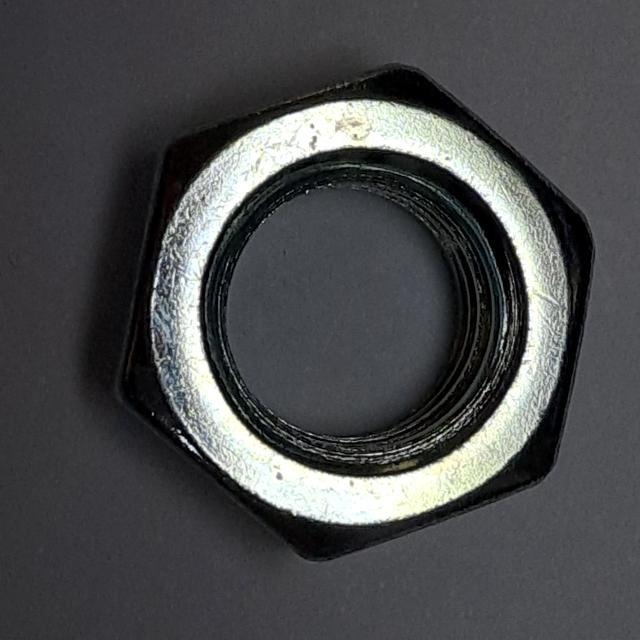Excellent: (96, 36, 606, 578)
